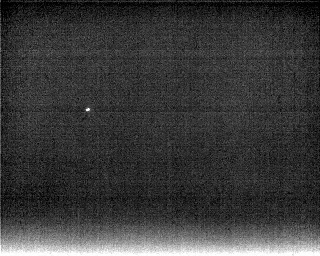BIRD: (83, 105, 92, 114)
